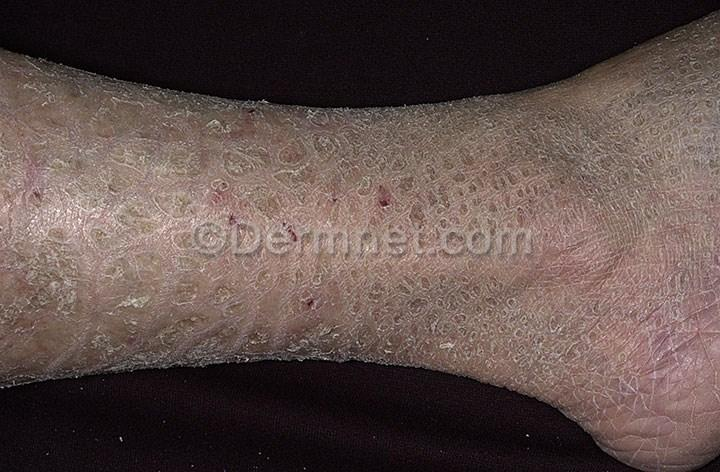exudacion 1: (0, 5, 719, 471)
xerosis 3: (1, 6, 720, 398)
